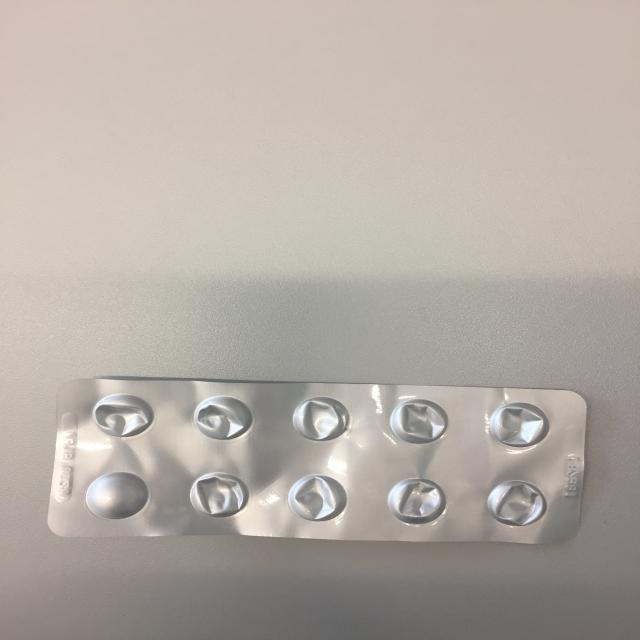Empty: (380, 395, 454, 446), (284, 472, 353, 523), (483, 401, 551, 452), (185, 469, 251, 520), (482, 479, 550, 528), (187, 392, 253, 441), (384, 477, 450, 526), (88, 391, 155, 439), (289, 395, 351, 443)
Pill: (81, 469, 153, 524)
